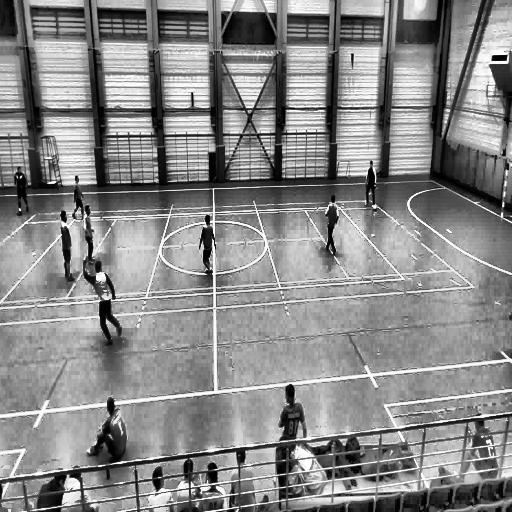ball: (371, 204, 378, 212)
player: (88, 397, 126, 479), (91, 259, 124, 346), (60, 208, 75, 283), (200, 213, 216, 278), (82, 204, 96, 278), (323, 194, 338, 256), (14, 167, 30, 214), (71, 175, 85, 219), (363, 161, 376, 207)
